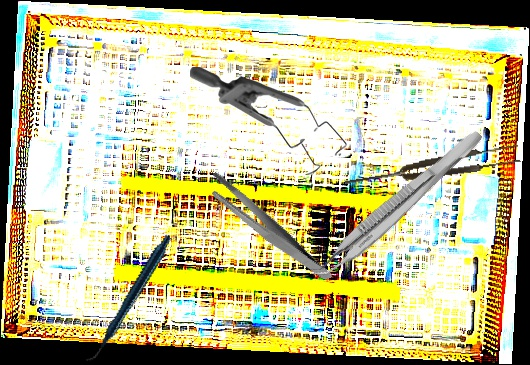Dressing Forceps: (202, 151, 334, 306)
Handpiece: (53, 233, 203, 363)
Speculum: (190, 67, 347, 175)
Tissue Forceps: (306, 118, 486, 290), (342, 142, 522, 193)
